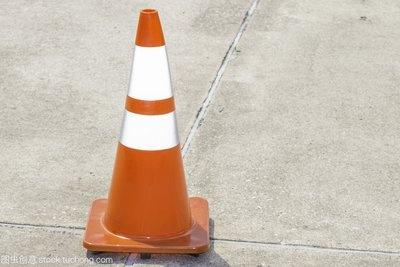cone_barrel: (93, 9, 200, 246)
